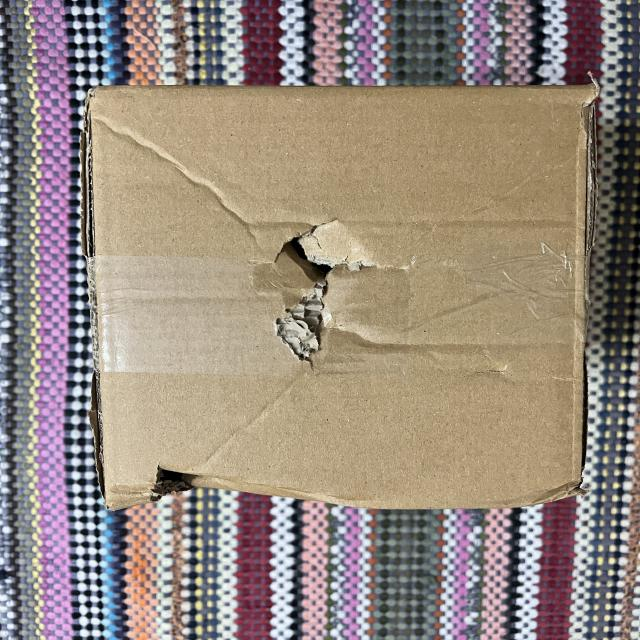damaged: (55, 67, 603, 522), (248, 204, 392, 376), (131, 452, 308, 512)
